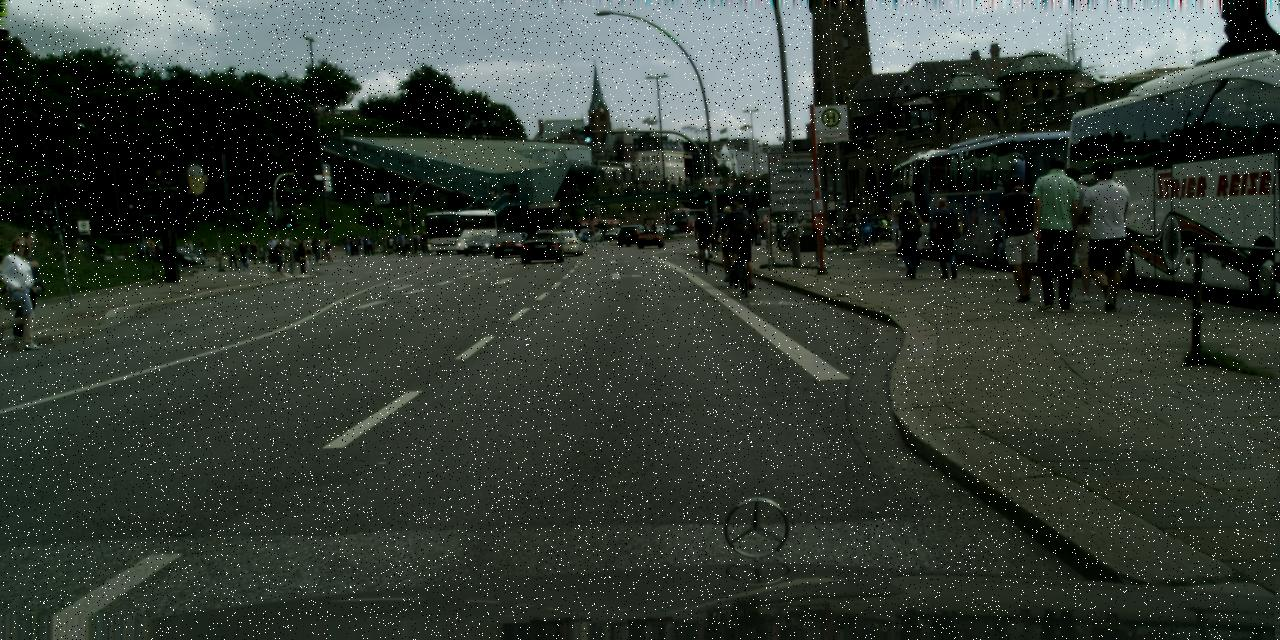ped: (1026, 155, 1090, 310), (1075, 159, 1137, 312), (1047, 165, 1102, 298), (994, 175, 1046, 301), (2, 231, 46, 340), (0, 235, 39, 343), (929, 197, 961, 278), (722, 200, 754, 280), (892, 198, 924, 277), (718, 205, 743, 269), (898, 205, 923, 267), (694, 210, 714, 260), (759, 209, 775, 249), (859, 212, 873, 248), (296, 240, 309, 272), (747, 210, 759, 242), (272, 240, 284, 271), (238, 240, 250, 268), (146, 237, 156, 267), (877, 214, 887, 242), (864, 212, 874, 240), (868, 212, 878, 240), (248, 239, 259, 264), (303, 236, 313, 262), (228, 243, 238, 269), (310, 236, 320, 261), (289, 237, 299, 262), (780, 217, 790, 242), (267, 236, 276, 260), (324, 237, 333, 261), (137, 238, 146, 261), (420, 231, 429, 253), (410, 231, 419, 253), (318, 237, 327, 259), (853, 212, 862, 234), (364, 233, 372, 254), (361, 234, 369, 254), (282, 236, 290, 256), (848, 212, 856, 232), (842, 212, 850, 232), (394, 233, 402, 253), (386, 235, 394, 254), (356, 234, 363, 253), (198, 238, 205, 256), (399, 232, 406, 250), (258, 246, 265, 264), (884, 210, 891, 228), (403, 233, 410, 250), (350, 238, 357, 255), (344, 236, 350, 253), (879, 210, 885, 227), (573, 182, 579, 198), (684, 174, 690, 190), (840, 214, 846, 230), (670, 176, 676, 190), (634, 178, 639, 194), (649, 177, 654, 192), (182, 241, 188, 253), (662, 176, 667, 190), (504, 186, 509, 199), (595, 184, 600, 197), (637, 180, 642, 193), (188, 241, 193, 253), (494, 192, 499, 204), (741, 172, 746, 184), (608, 183, 613, 195), (490, 190, 494, 203), (570, 185, 574, 198), (617, 183, 621, 196), (652, 223, 656, 236), (323, 105, 328, 115), (352, 144, 356, 156), (510, 186, 514, 198), (622, 182, 626, 194), (312, 105, 316, 115), (318, 104, 322, 114), (629, 183, 633, 193), (748, 171, 754, 177), (567, 190, 570, 198), (488, 133, 491, 140), (482, 134, 484, 140), (472, 134, 474, 139), (478, 134, 478, 138)
